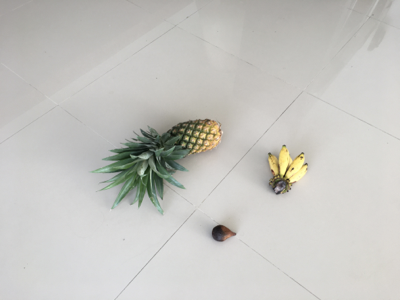banana: (266, 145, 310, 196)
pineapple: (92, 118, 222, 213)
snake fruit: (211, 225, 238, 244)
